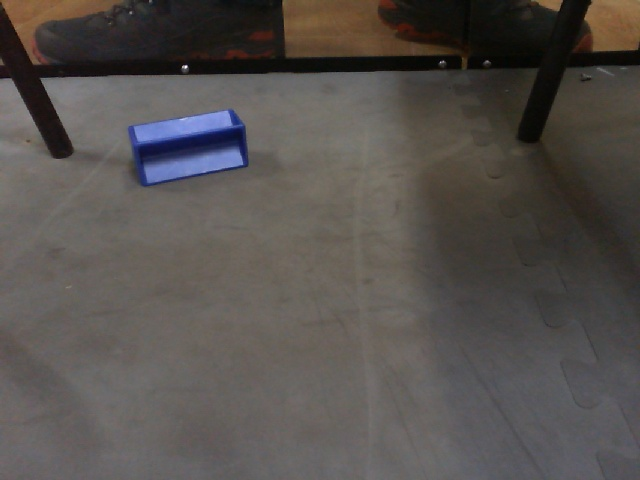BlueSample: (123, 106, 250, 187)
